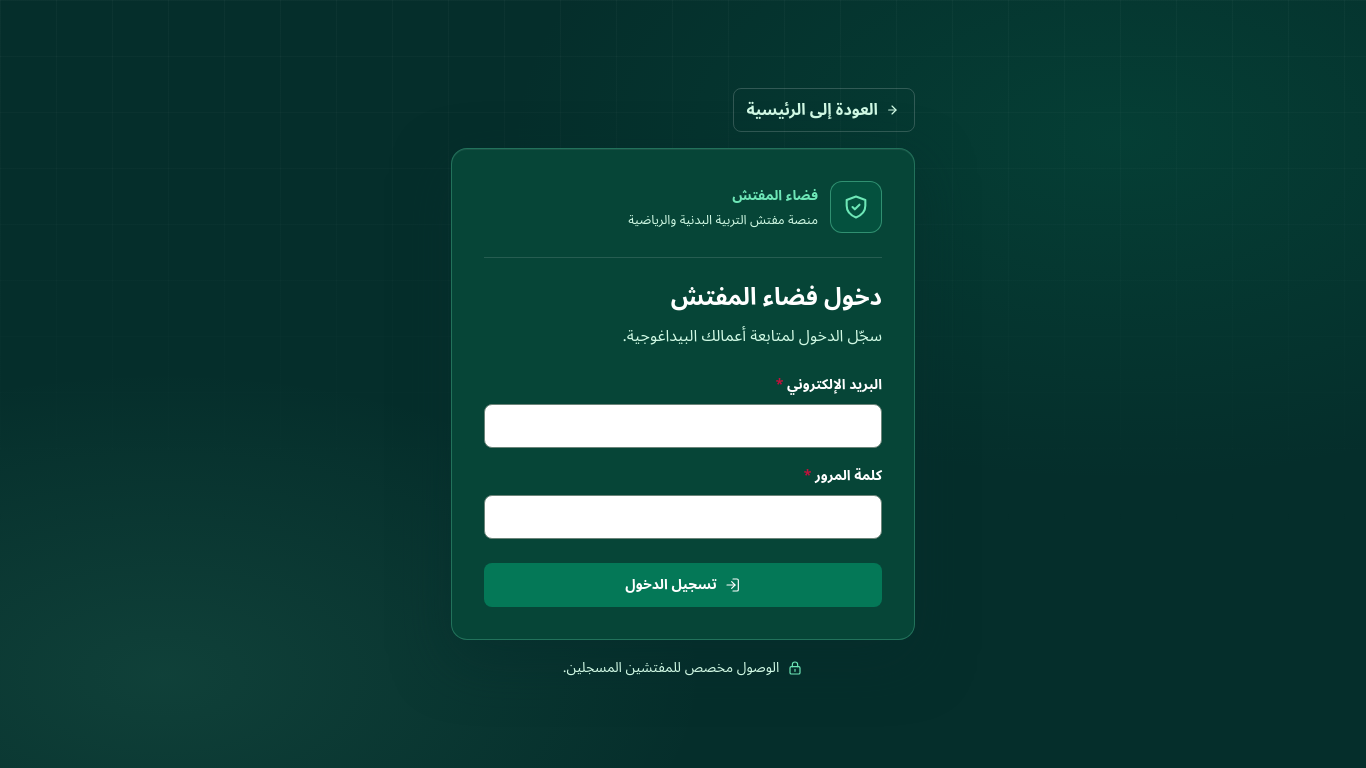
Scenario: inspector login page › shows a generic authentication failure
The width and height of the screenshot is (1366, 768).
Type "inspector@example.invalid" into the field labelled "البريد الإلكتروني".
click(683, 426); type("inspector@example.invalid")  # box left=484, top=404, right=882, bottom=448
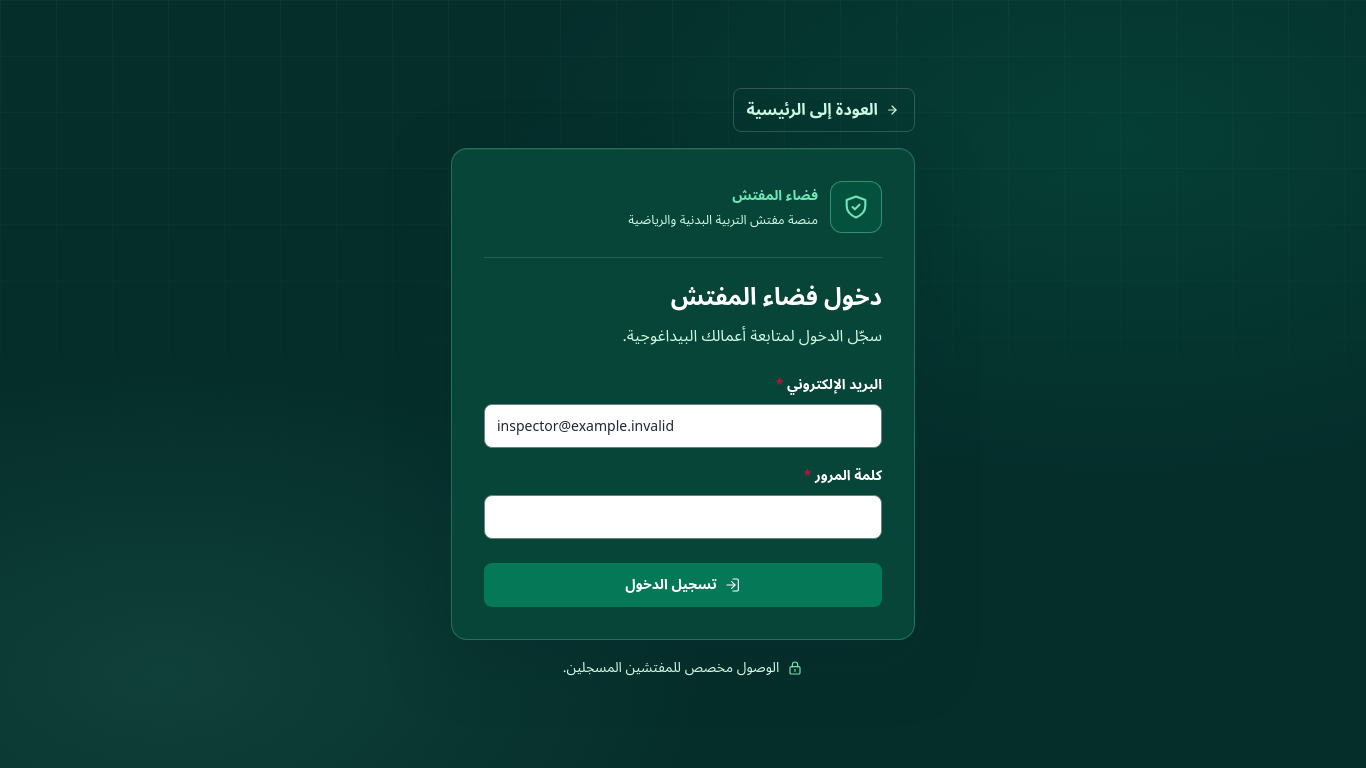
Type "synthetic-password" into the password field labelled "كلمة المرور *".
click(683, 517); type("synthetic-password")  # box left=484, top=495, right=882, bottom=539
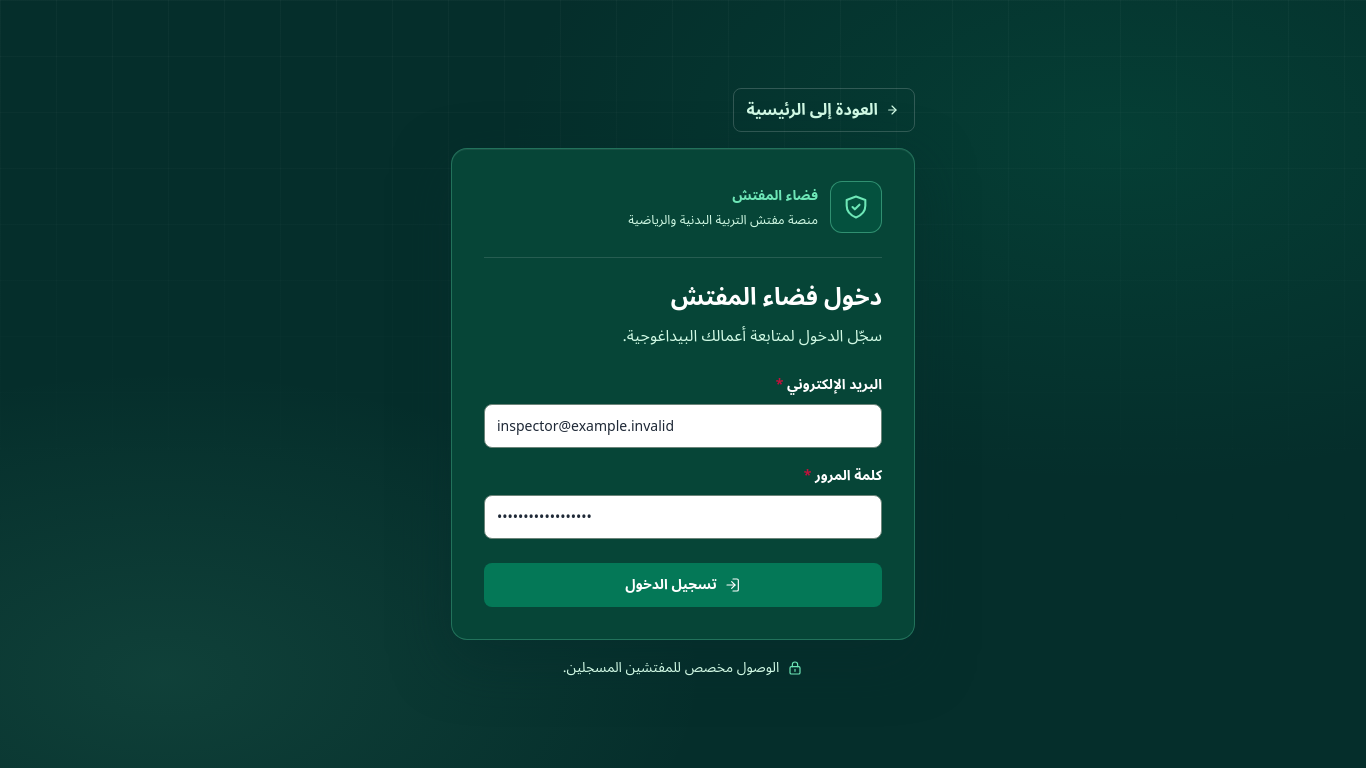
Click the button "تسجيل الدخول".
click(683, 585)  # box left=484, top=563, right=882, bottom=607
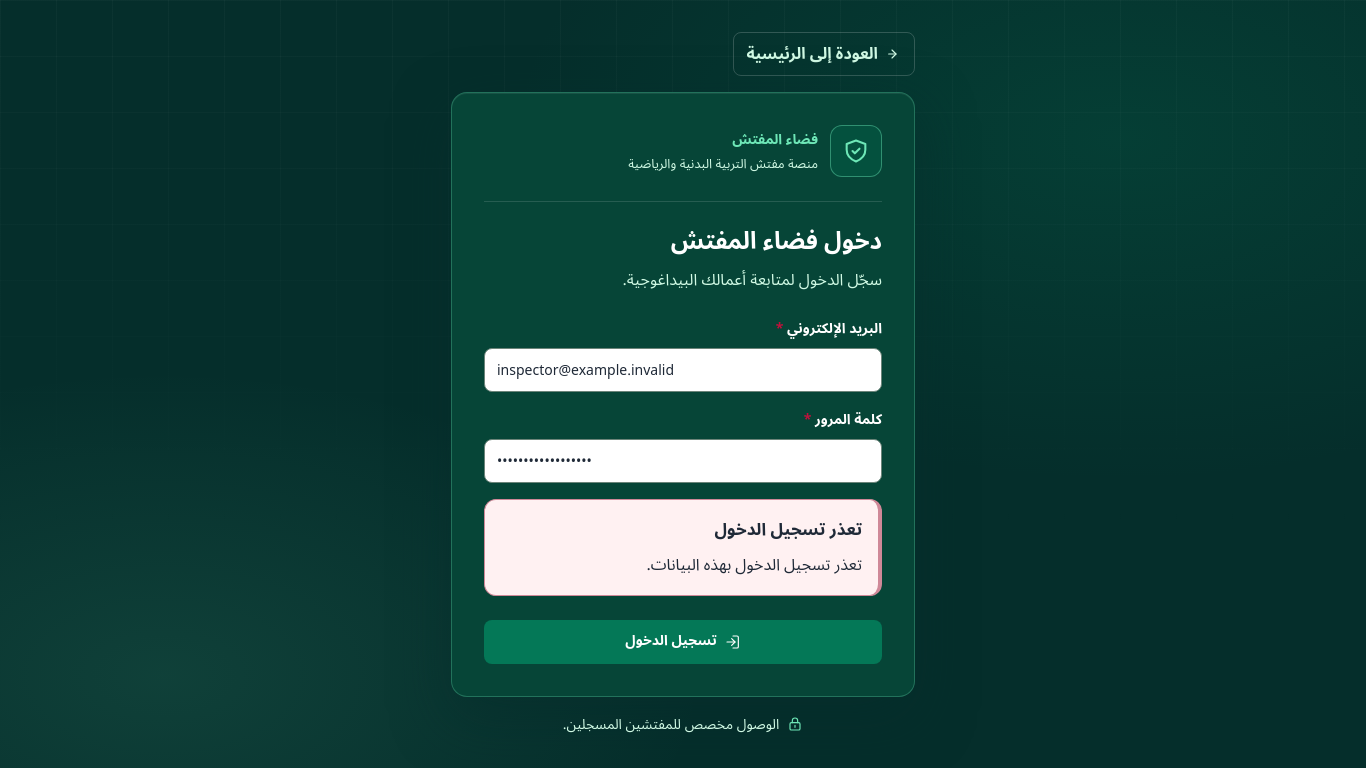
Now the message shows "تعذر تسجيل الدخول بهذه البيانات.", box left=646, top=548, right=862, bottom=582
